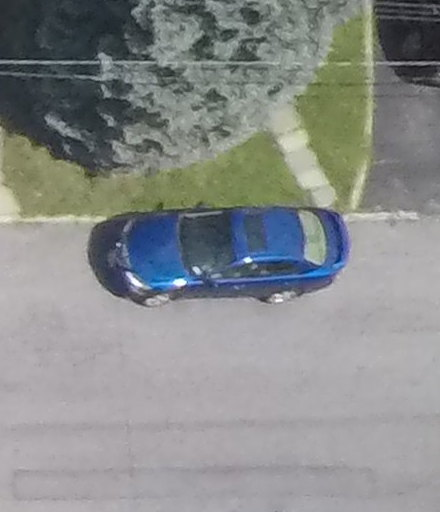car: (107, 191, 353, 319)
street: (2, 215, 436, 512)
